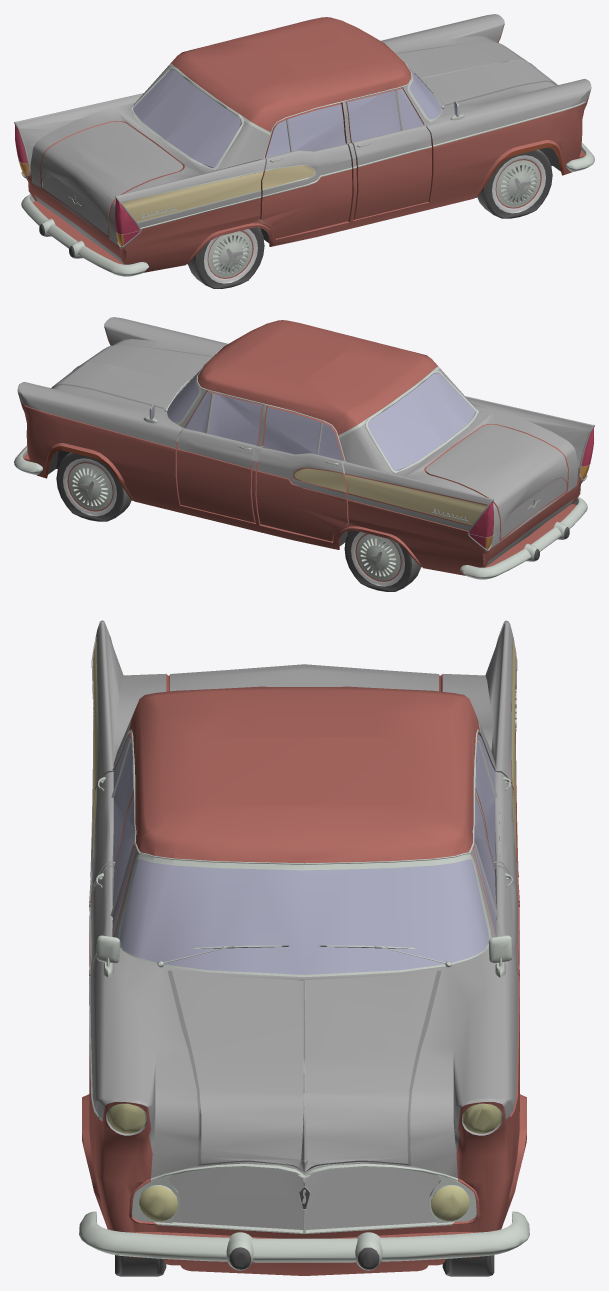
File: simca-chambord.glb
3 views of the same model, one above another, from view 1: azimuth 30°, elevation 25°; view 2: azimuth 150°, elevation 25°; view 3: azimuth 270°, elevation 25° (orthographic). The views are drawn at different scales.
Parts seen in each view (by area): view 1: Object_2; view 2: Object_2; view 3: Object_2.
Part boxes in pixels (<box>): Object_2: <box>14,14,594,288</box>; Object_2: <box>14,317,594,591</box>; Object_2: <box>79,620,529,1276</box>.
Size of the model in its own units: 9845 by 3189 by 3832.
